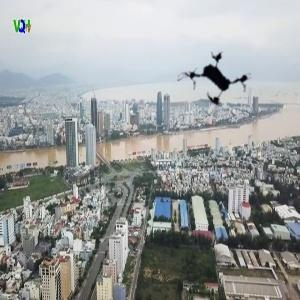drone: (176, 47, 253, 124)
